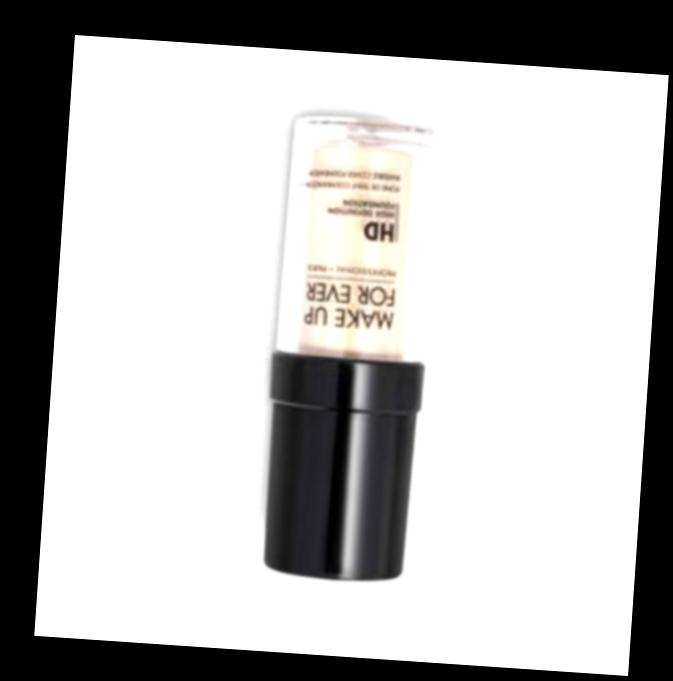cosmetic: (253, 112, 446, 585)
